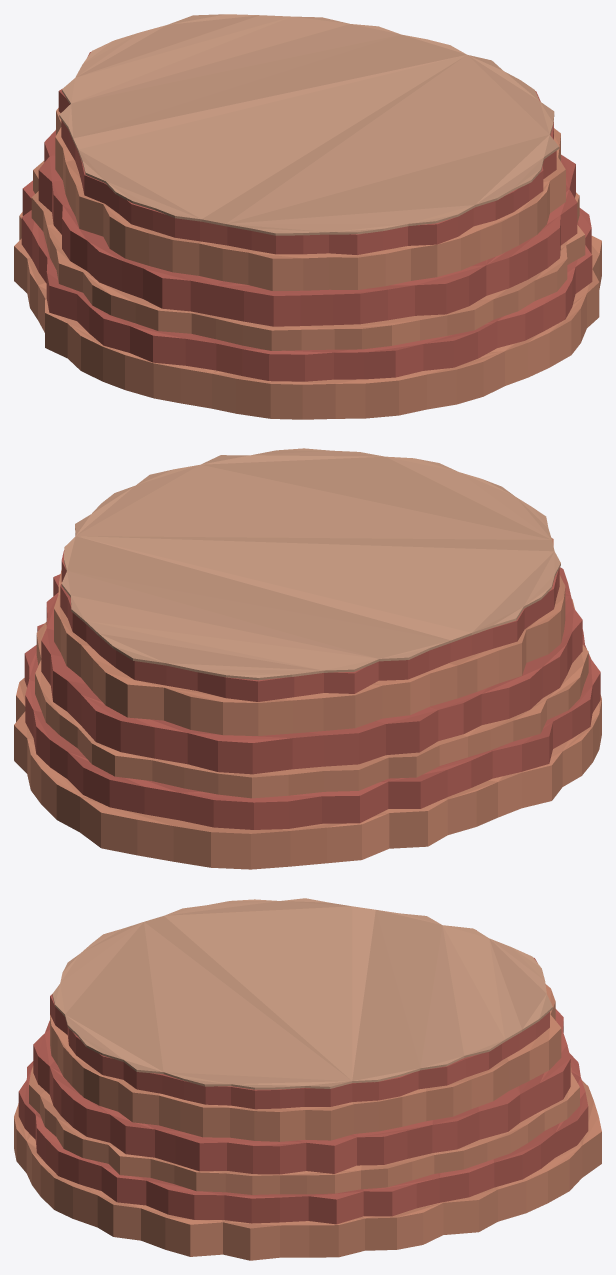
File: Plateau_Large.fbx
3 views of the same model, one above another, from view 1: azimuth 30°, elevation 25°; view 2: azimuth 150°, elevation 25°; view 3: azimuth 270°, elevation 25° (orthographic). The views are drawn at different scales.
Parts seen in each view (by area): view 1: Plateau_Large; view 2: Plateau_Large; view 3: Plateau_Large.
Boxes of the visible parts, x1,y1,x2,y2 form: Plateau_Large: [14, 14, 601, 419]; Plateau_Large: [14, 448, 601, 869]; Plateau_Large: [14, 898, 601, 1260].
Size of the model in its own units: 66.58 by 21.38 by 73.59.
